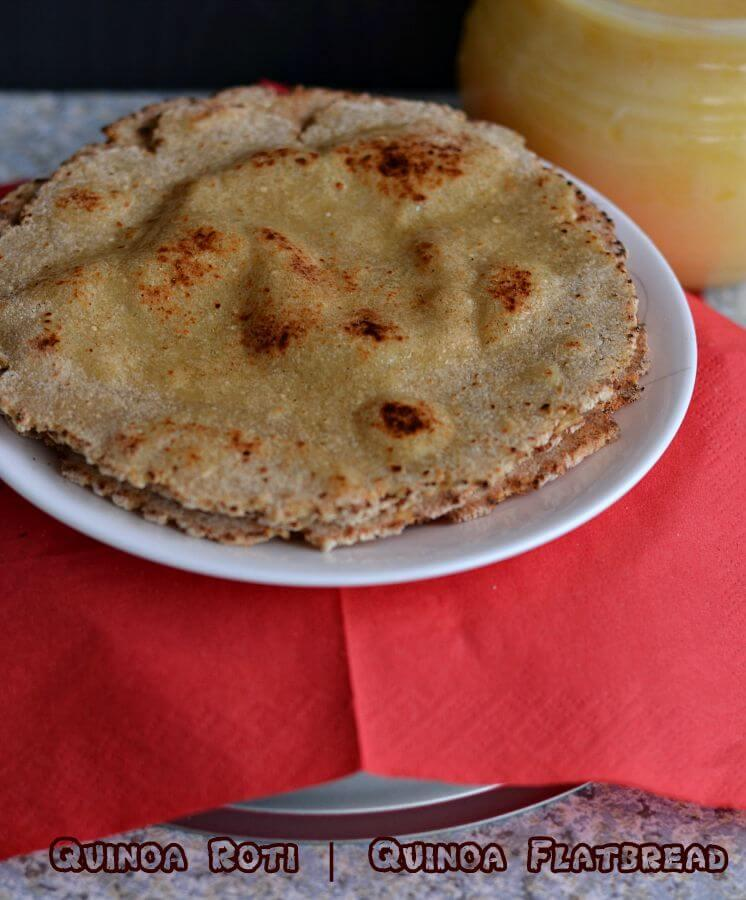chapati: (2, 86, 645, 548)
